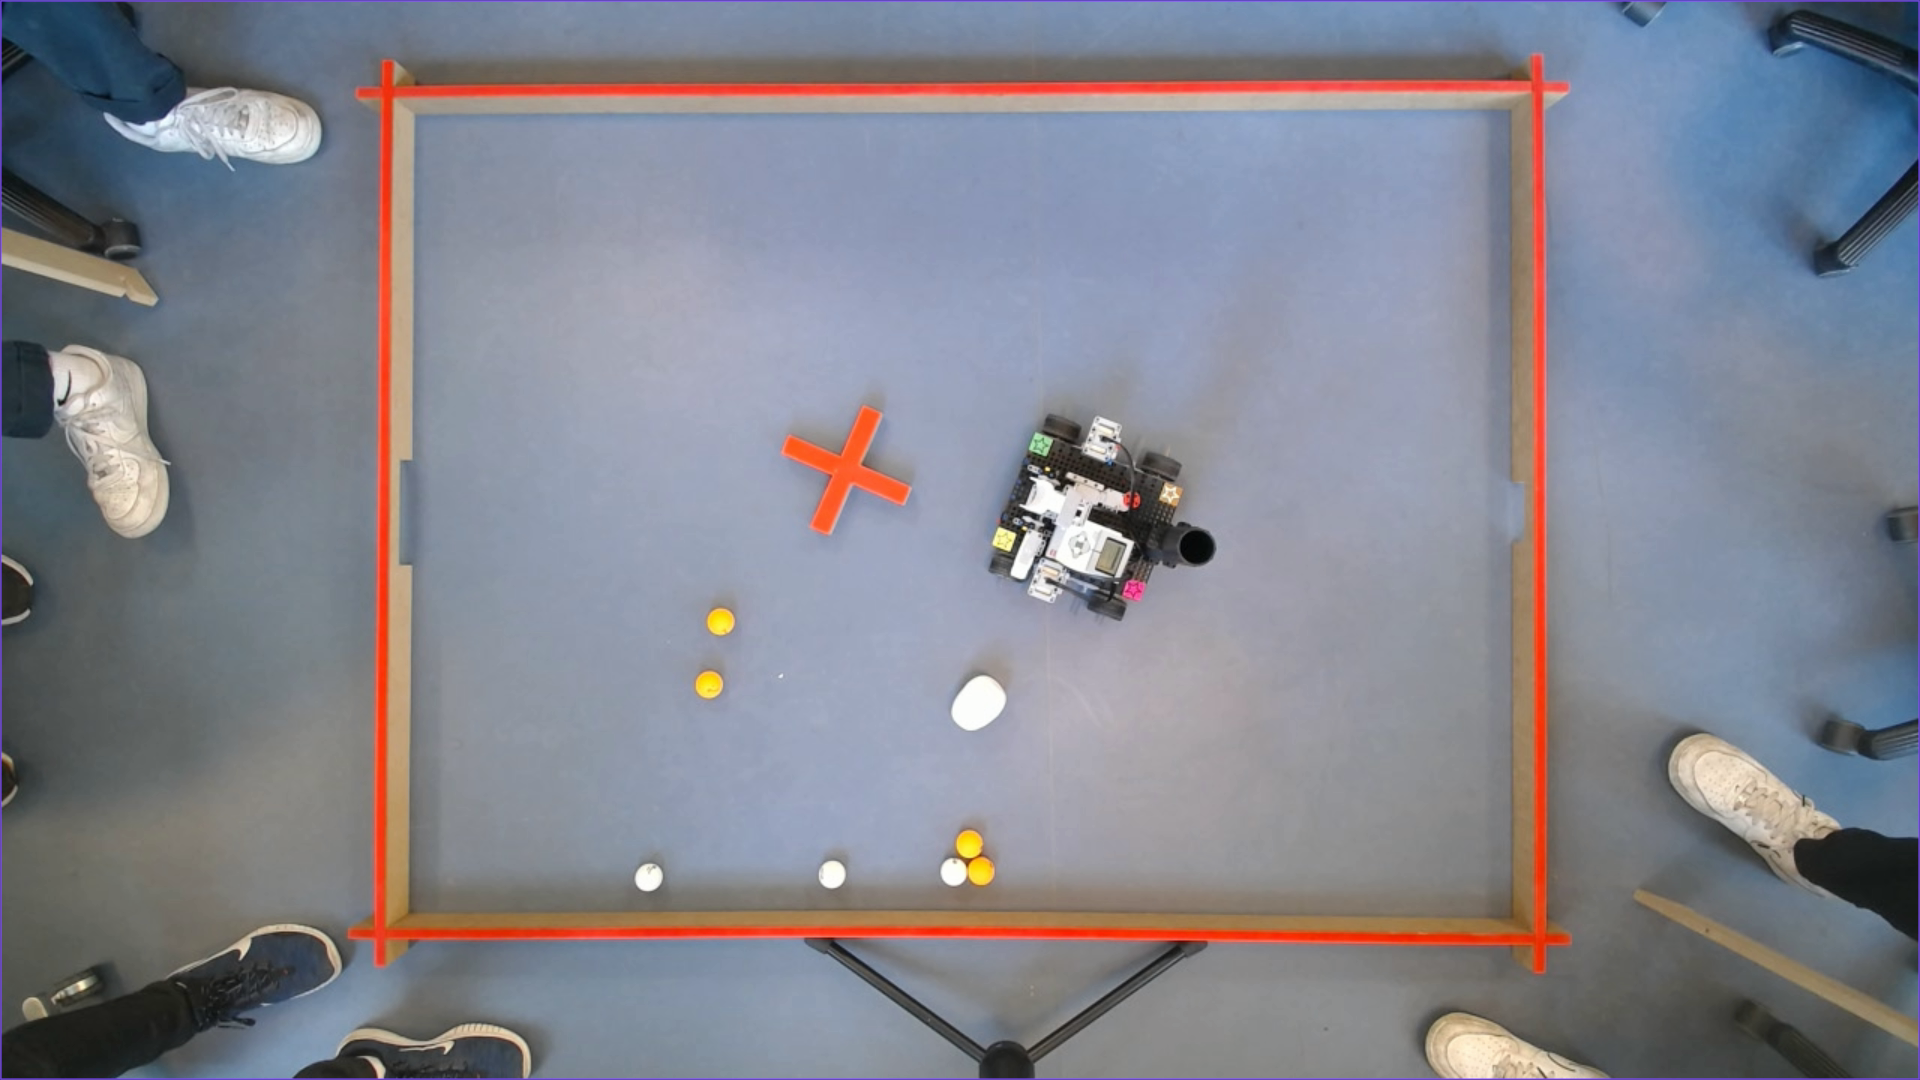ball_orange: (975, 856, 996, 887), (957, 832, 978, 855), (709, 611, 732, 632), (699, 675, 720, 695)
ball_white: (636, 865, 662, 889), (942, 861, 967, 882), (820, 864, 840, 882)
corner_brown: (1164, 485, 1178, 505)
corner_green: (1034, 433, 1047, 454)
corner_pink: (1130, 580, 1139, 599)
corner_yellow: (992, 527, 1018, 553)
cross: (779, 407, 913, 539)
egg: (953, 674, 1004, 732)
playfield: (372, 80, 1549, 947)
